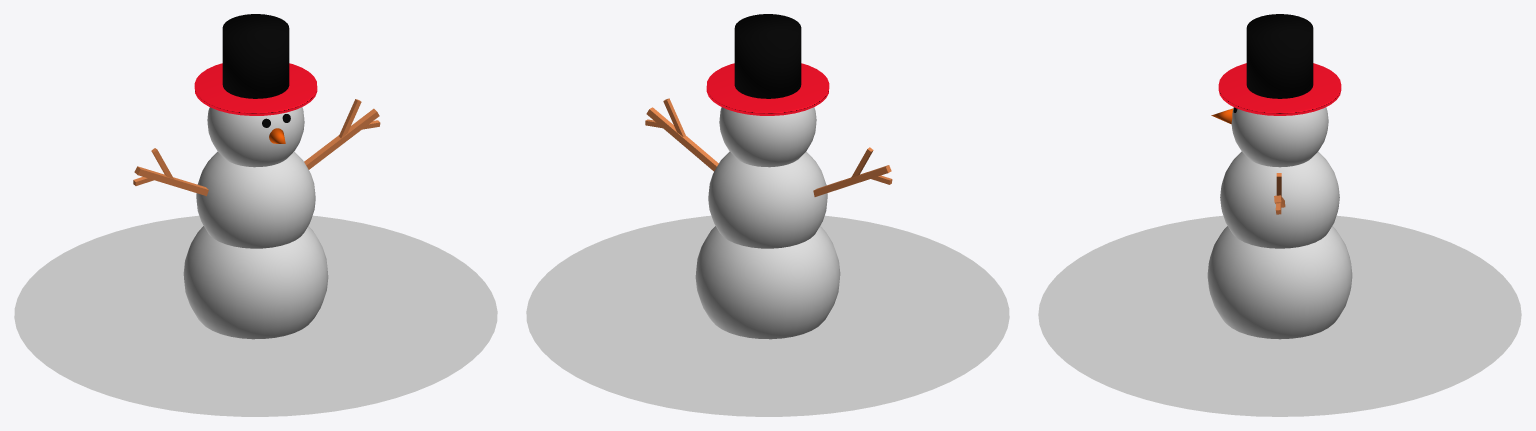
File: snowman.glb
3 renders of one model, left to right at view 1: azimuth 30°, elevation 25°; view 2: azimuth 150°, elevation 25°; view 3: azimuth 270°, elevation 25°, orthographic.
Parts seen in each view (by area): view 1: Ground, Snowball, Snowball.001, Hat, Head, Hat Brim, Stick, Stick.001; view 2: Ground, Snowball, Snowball.001, Hat, Head, Hat Brim, Stick, Stick.001; view 3: Ground, Snowball, Snowball.001, Hat, Head, Hat Brim.
Boxes of the visible parts, x1,y1,x2,y2 form: Ground: (14,215,497,416); Snowball: (183,226,328,339); Snowball.001: (196,151,315,248); Hat: (222,14,289,98); Head: (207,107,304,167); Hat Brim: (194,63,317,115); Stick: (134,108,379,196); Stick.001: (151,99,361,178); Ground: (526,215,1009,416); Snowball: (695,226,840,339); Snowball.001: (708,151,827,248); Hat: (734,14,801,98); Head: (719,107,816,167); Hat Brim: (706,63,829,115); Stick: (646,107,891,196); Stick.001: (663,98,873,177); Ground: (1038,215,1521,416); Snowball: (1207,226,1352,339); Snowball.001: (1220,151,1339,248); Hat: (1246,14,1313,98); Head: (1231,107,1328,167); Hat Brim: (1218,63,1341,115).
Bounding box in the file's own units: 3.05 × 2.18 × 3.05.
